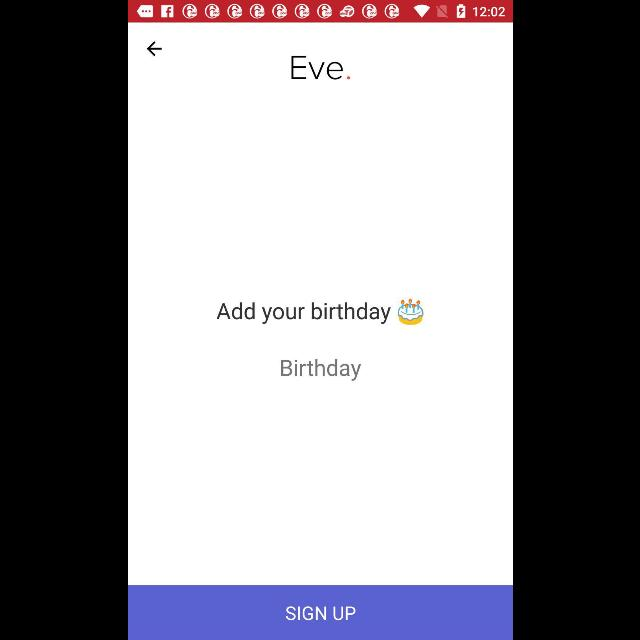icon: (146, 41, 162, 57)
image: (397, 298, 423, 326)
text: (128, 586, 512, 640), (216, 302, 390, 324), (280, 358, 360, 382), (290, 56, 350, 80)
uppertaskbar: (128, 1, 512, 23)
